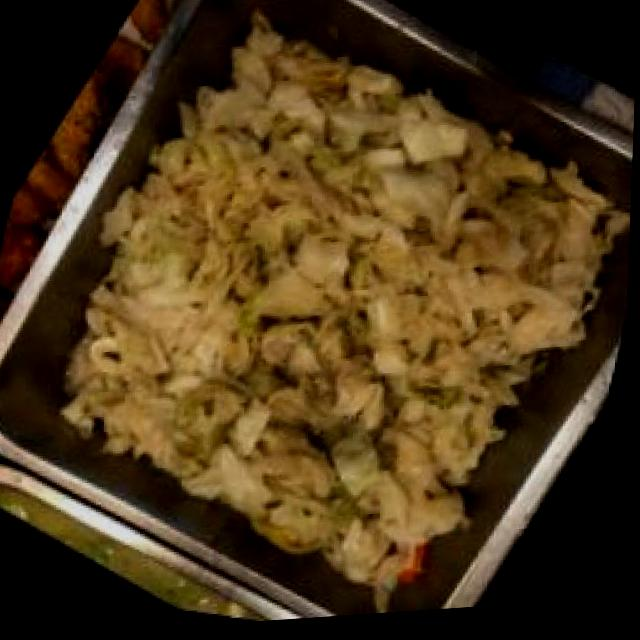chinese_cabbage: (1, 0, 639, 639)
